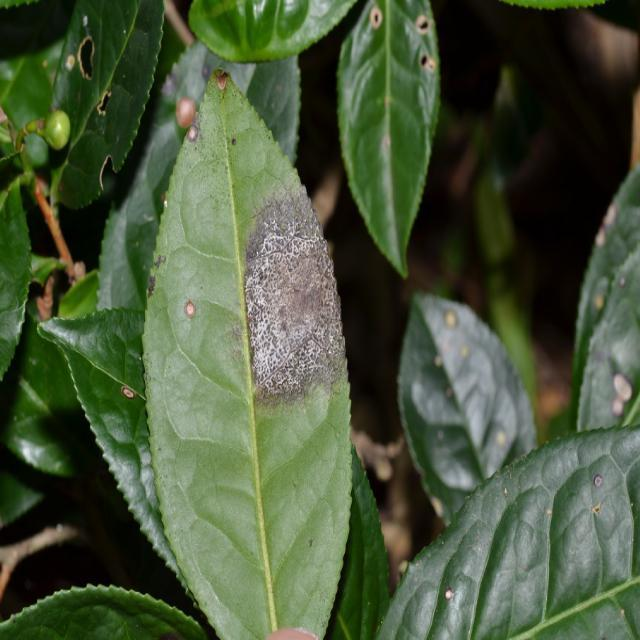Tea exobasidium blight: (237, 194, 346, 391)
